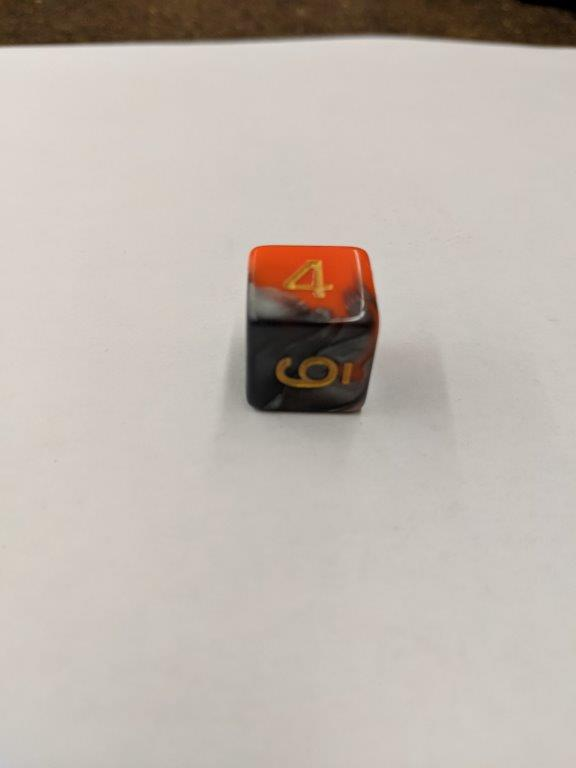d6-4: (245, 245, 380, 416)
